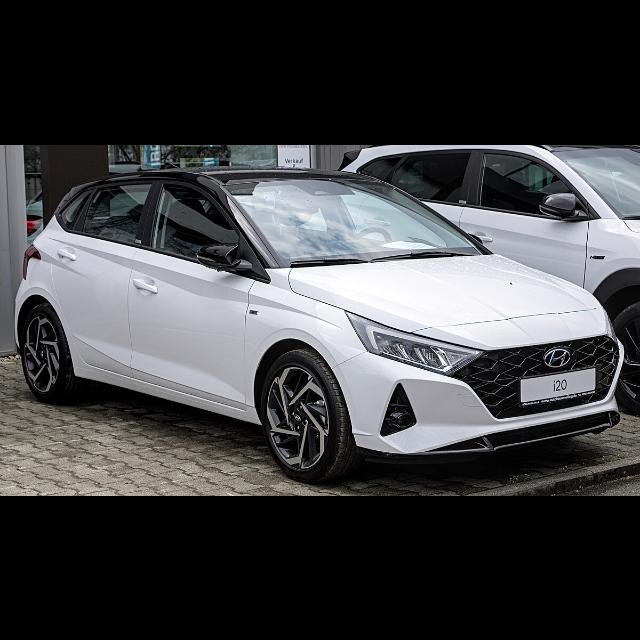vehicles: (18, 167, 622, 475), (344, 145, 636, 403)
